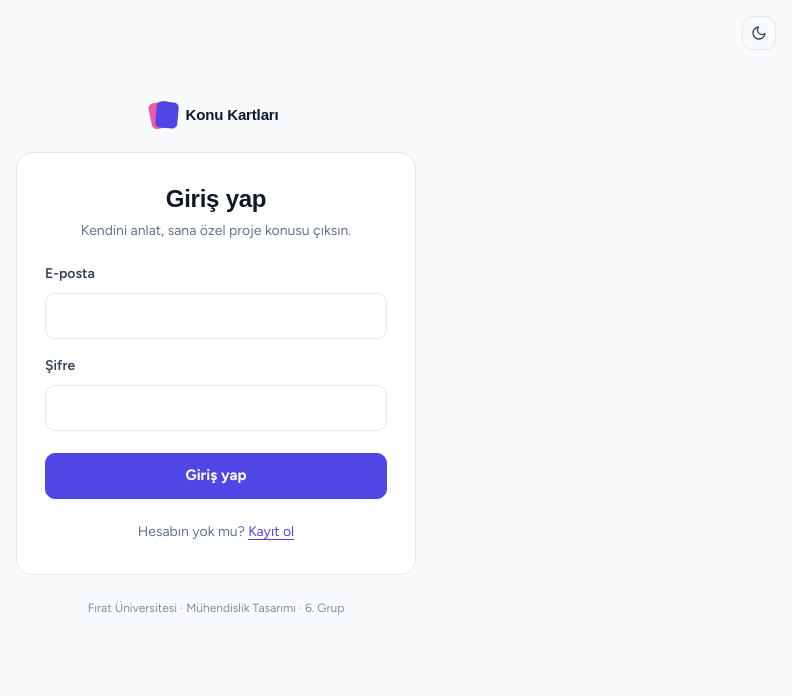
Giriş › "Kayıt ol" bağlantısı kayıt ekranını açar, geri düğmesi döner
Click the link "Kayıt ol": (271, 531) x1=248 y1=523 x2=294 y2=540
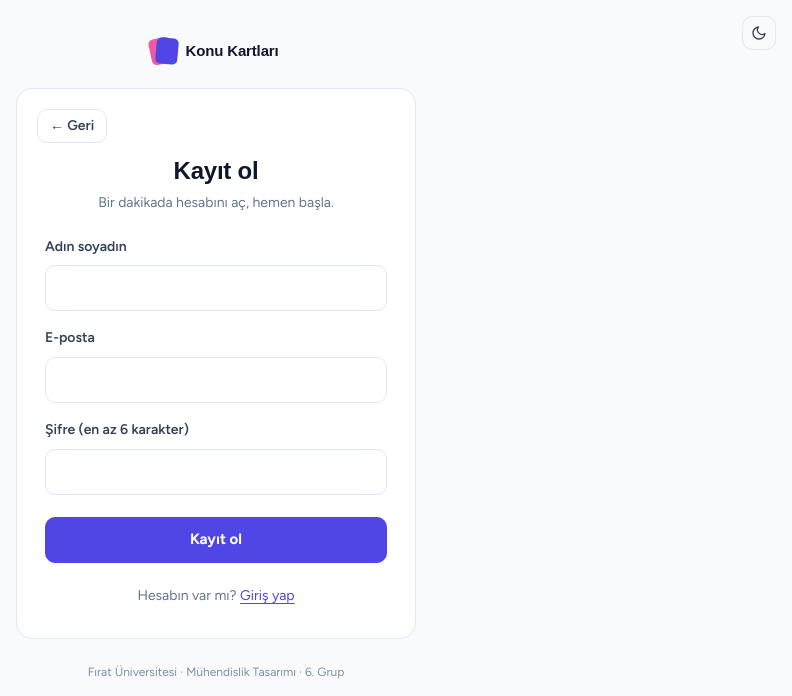
Expected: the heading "Kayıt ol" is shown, x1=174 y1=157 x2=258 y2=184
Click the button "← Geri": (72, 126) x1=37 y1=109 x2=107 y2=143
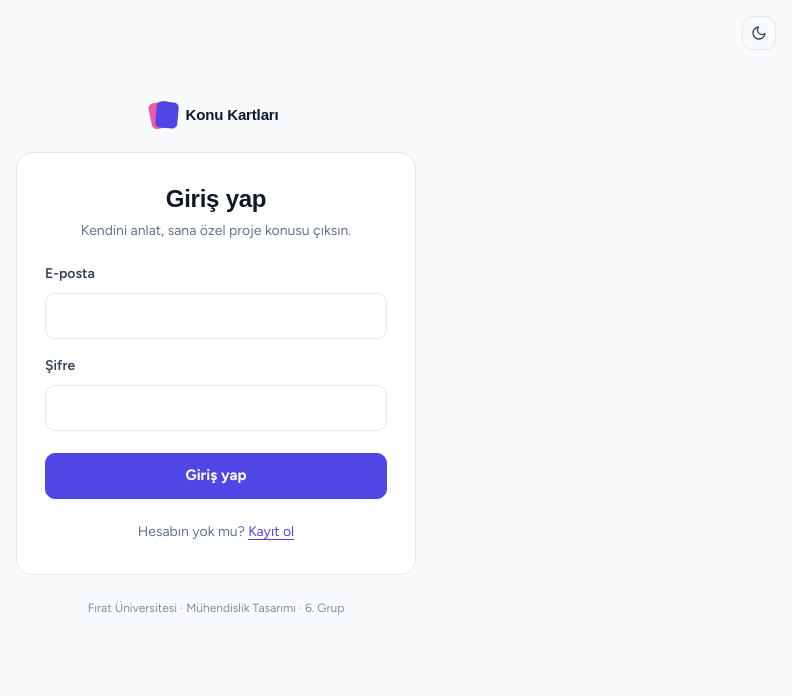
Expected: the heading "Giriş yap" is shown, x1=166 y1=185 x2=266 y2=212
